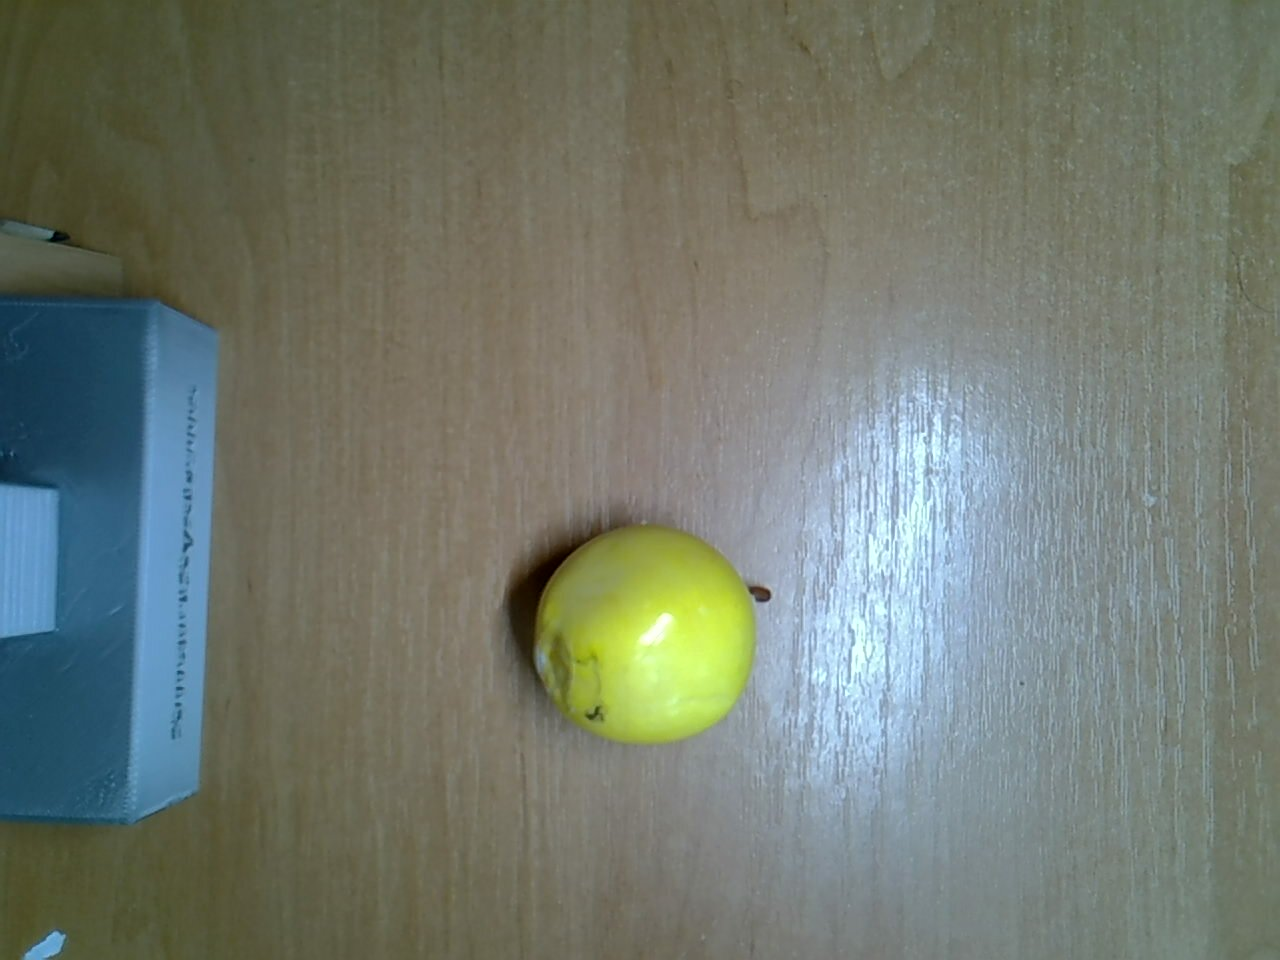apple: (523, 516, 784, 754)
